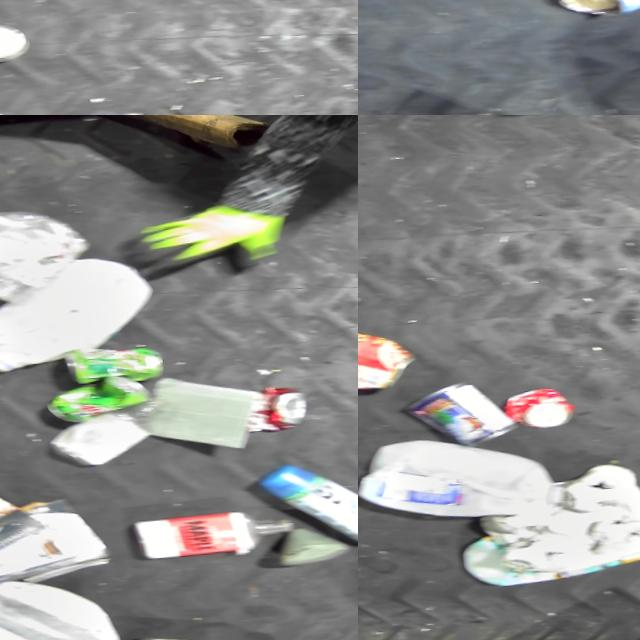can: (385, 372, 518, 453), (37, 368, 152, 428), (55, 336, 167, 388), (358, 319, 417, 396), (492, 380, 574, 432), (236, 380, 308, 434), (0, 18, 29, 65)
milk_jug: (0, 246, 163, 378), (358, 422, 560, 528)
plastic_bottle: (114, 620, 290, 640)
